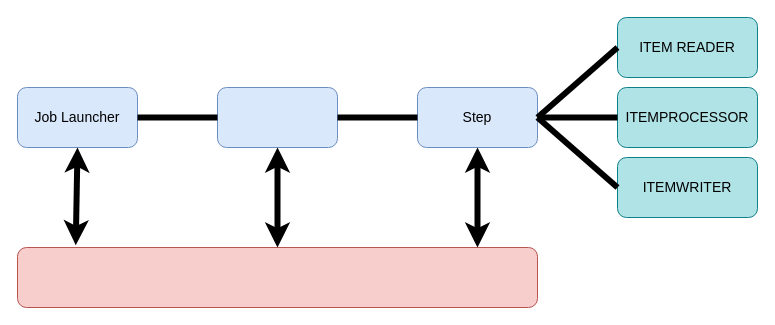
Image size: 775x325. Some labels were removed from this diagram. The box of each missing label's shape, as (x1, y1, x2, y2) in pixels:
Job: (216, 86, 338, 148)
JOB REPOSITORY: (16, 246, 538, 308)
